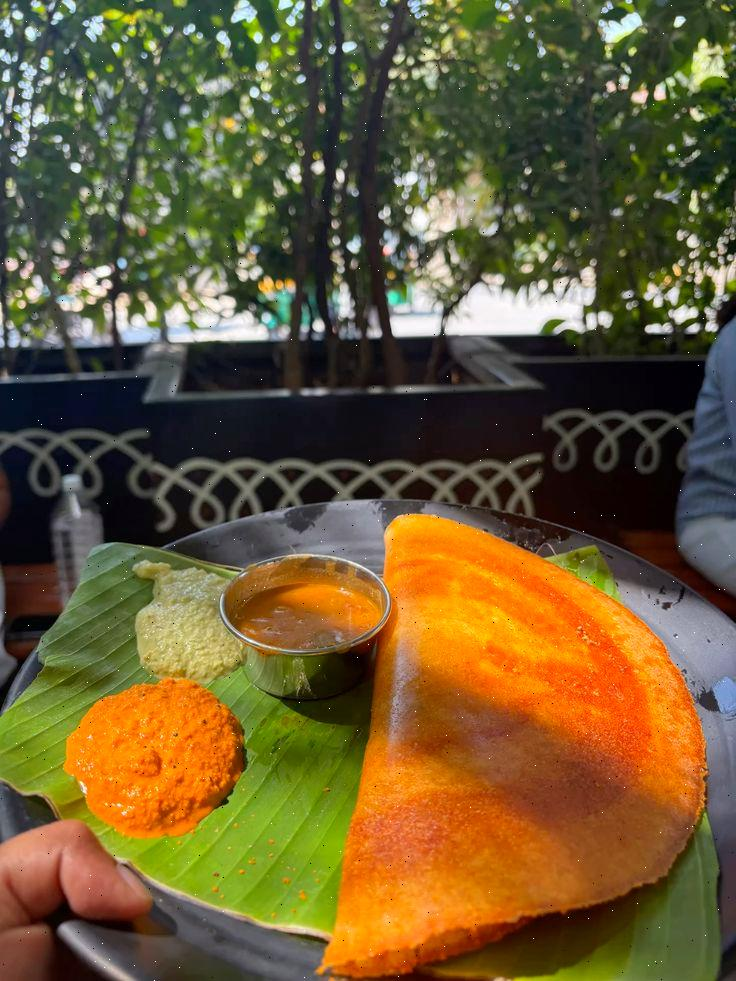dosa: (363, 486, 700, 981)
